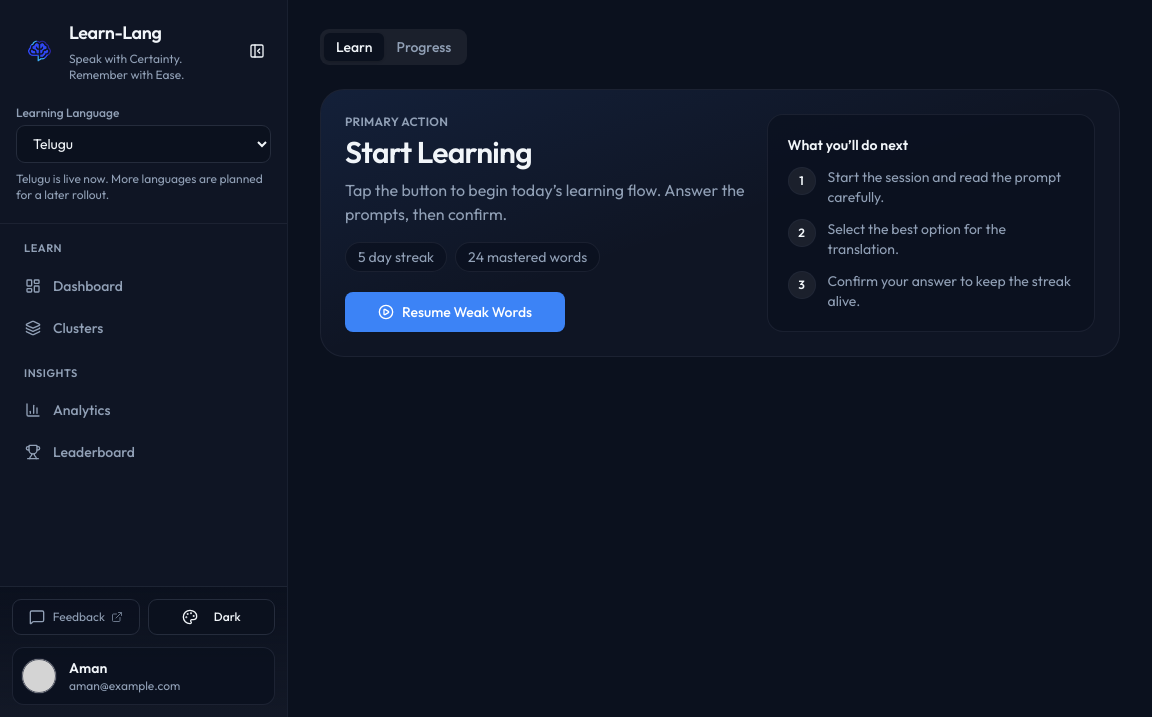
Dashboard integration › shows primary dashboard actions and core mode cards
The image size is (1152, 717).
Expected: the heading "Start Learning" is shown, [345,133,532,171]
Expected: the text "Primary Action" is shown, [345,114,448,129]
Click the tab "Progress": (424, 47) [384,33,463,61]
(page scrolled)
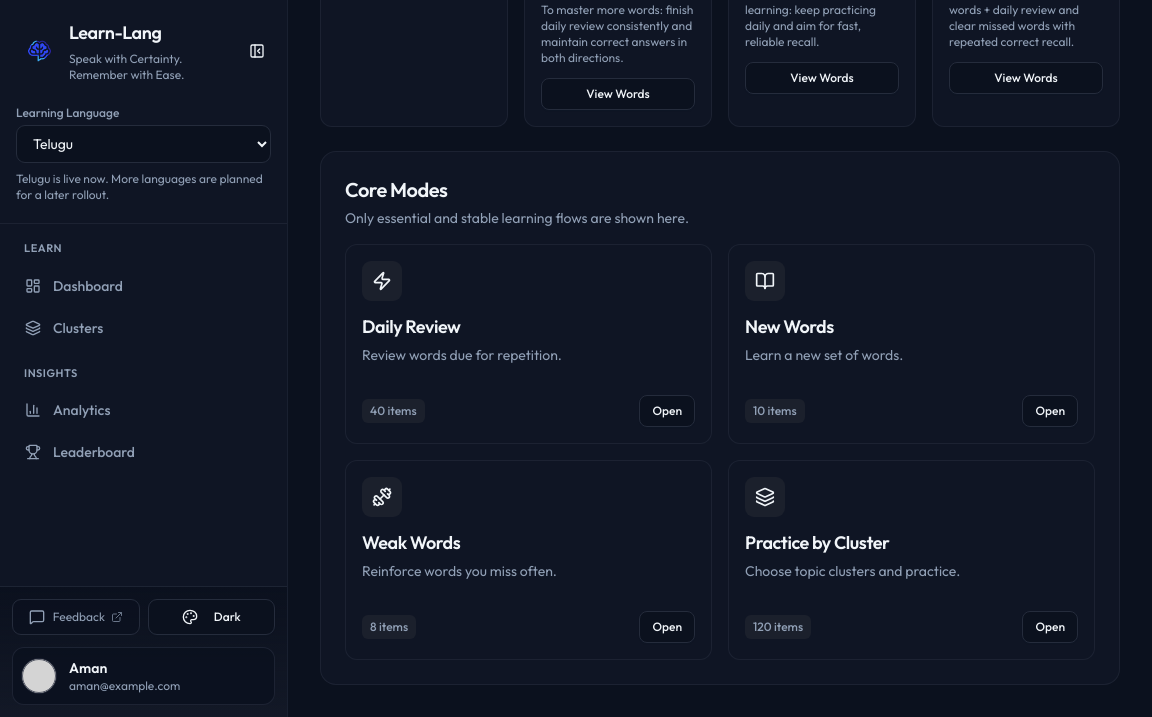
Expected: the heading "Core Modes" is shown, [345,177,448,202]
Expected: the heading "Daily Review" is shown, [362,315,460,338]
Expected: the heading "Practice by Cluster" is shown, [745,531,889,554]
